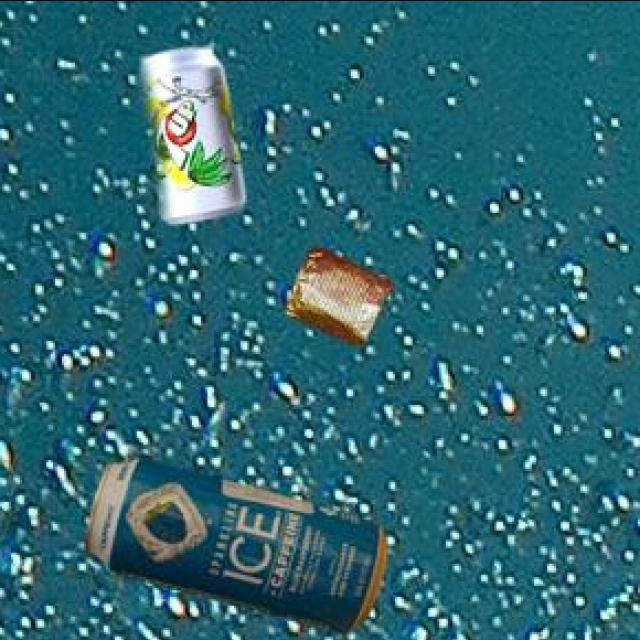logam: (89, 454, 390, 630), (147, 43, 248, 220), (290, 244, 396, 341)
